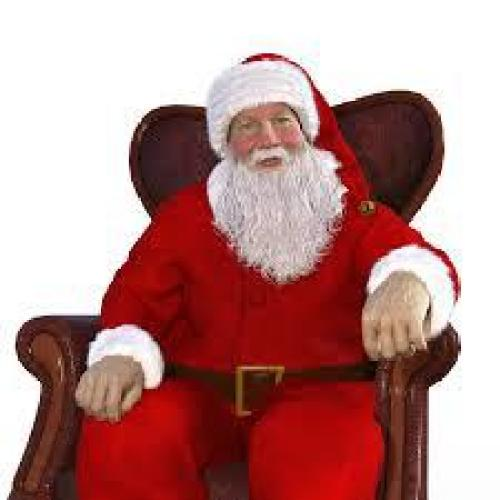Santa: (71, 50, 461, 500)
